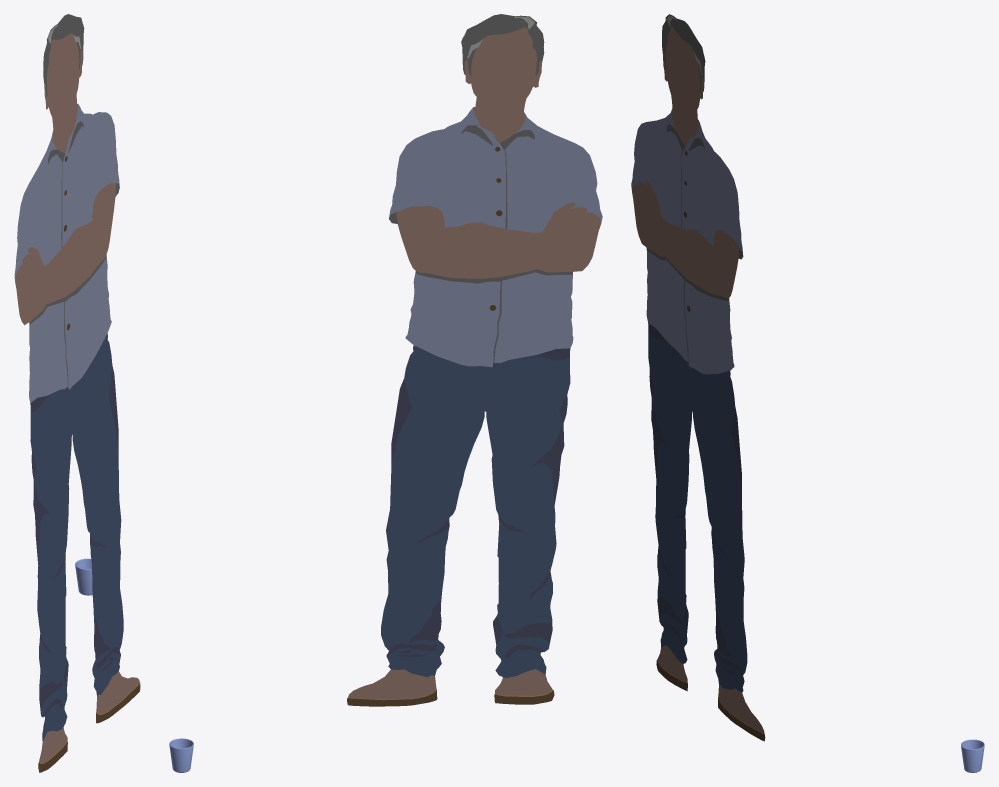
Rendered from blue_cup.fbx.
3 renders of one model, left to right at view 1: azimuth 30°, elevation 25°; view 2: azimuth 150°, elevation 25°; view 3: azimuth 270°, elevation 25°, orthographic. The views are drawn at different scales.
Visible parts, largest first — view 1: Niraj1, Group1; view 2: Niraj1, Group1; view 3: Niraj1, Group1.
Boxes of the visible parts, x1=… form: Niraj1: x1=14, y1=14, x2=140, y2=772; Group1: x1=75, y1=558, x2=92, y2=595; Niraj1: x1=347, y1=14, x2=602, y2=706; Group1: x1=169, y1=738, x2=193, y2=772; Niraj1: x1=631, y1=14, x2=765, y2=741; Group1: x1=961, y1=739, x2=984, y2=772.
Bounding box in the file's own units: 27.29 × 70.5 × 33.69.
